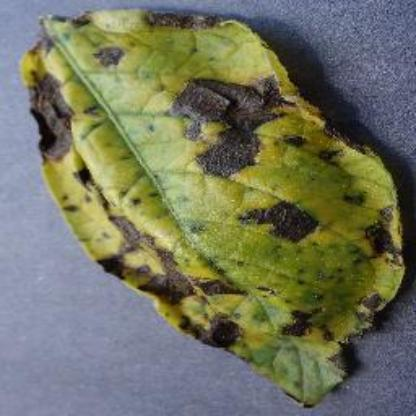Early-Blight: (22, 7, 411, 409)
